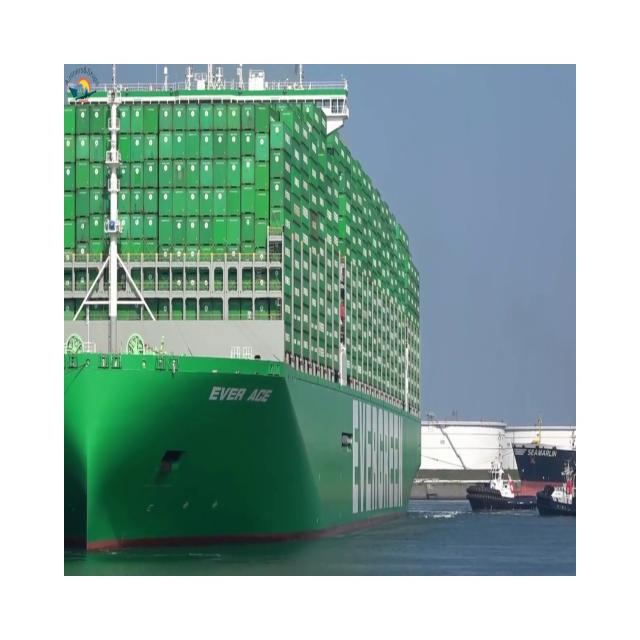OCR: (344, 382, 409, 526), (209, 372, 276, 419)
